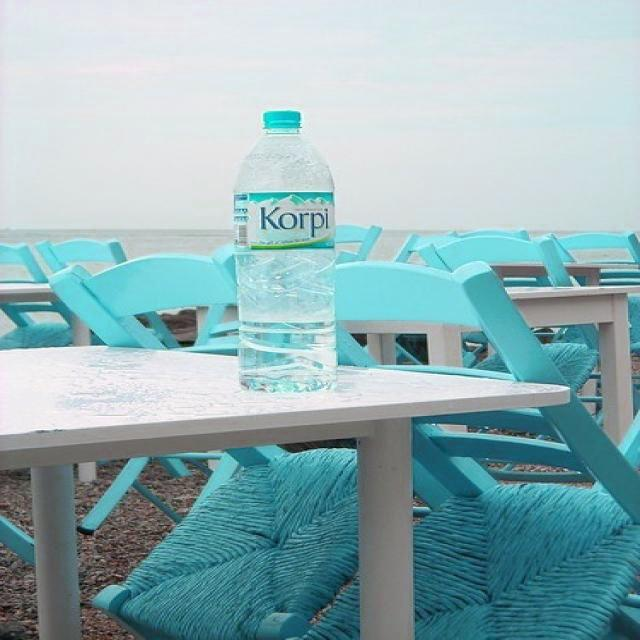bottle: (233, 109, 338, 394)
